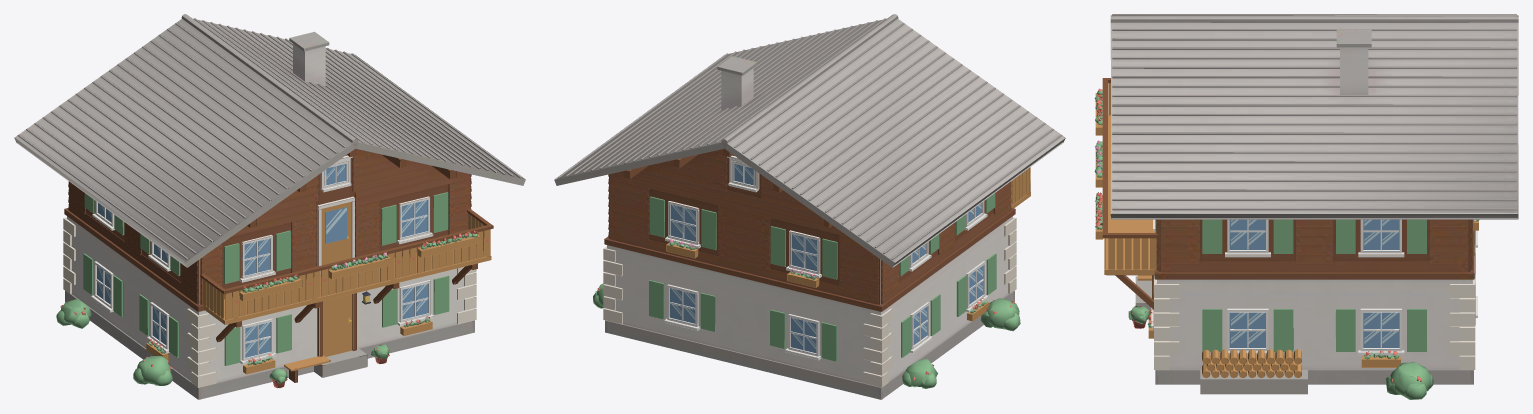
The model's file is chalet.glb.
The picture shows the model from 3 angles, left to right: view 1: azimuth 30°, elevation 25°; view 2: azimuth 150°, elevation 25°; view 3: azimuth 270°, elevation 25°; orthographic projection. The views are drawn at different scales.
Parts seen in each view (by area): view 1: alpine-chalet_body; view 2: alpine-chalet_body; view 3: alpine-chalet_body.
Boxes of the visible parts, left/top/right/bottom form: alpine-chalet_body: left=14, top=14, right=525, bottom=399; alpine-chalet_body: left=554, top=14, right=1065, bottom=399; alpine-chalet_body: left=1094, top=14, right=1518, bottom=399.
Bounding box in the file's own units: 11.43 × 7.97 × 10.18.
21 materials, 1 textured.
